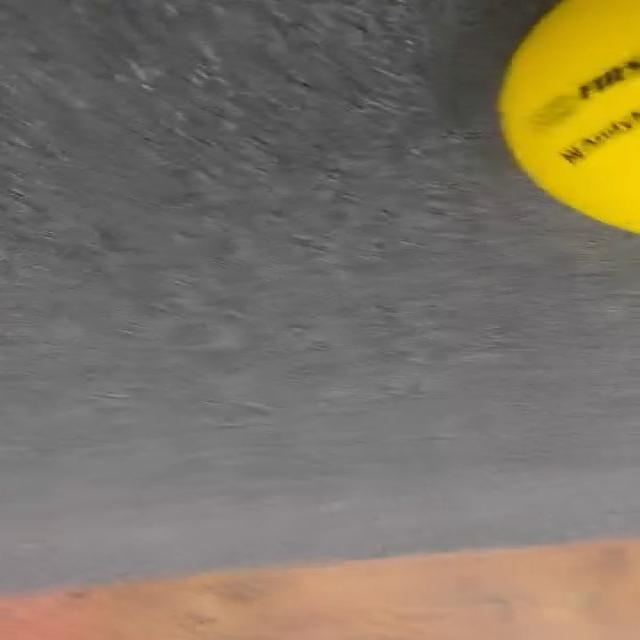Fuels: (494, 0, 640, 236)
